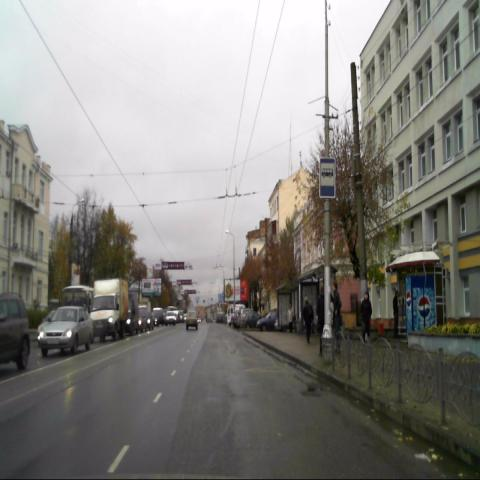5_16: (319, 157, 335, 198)
